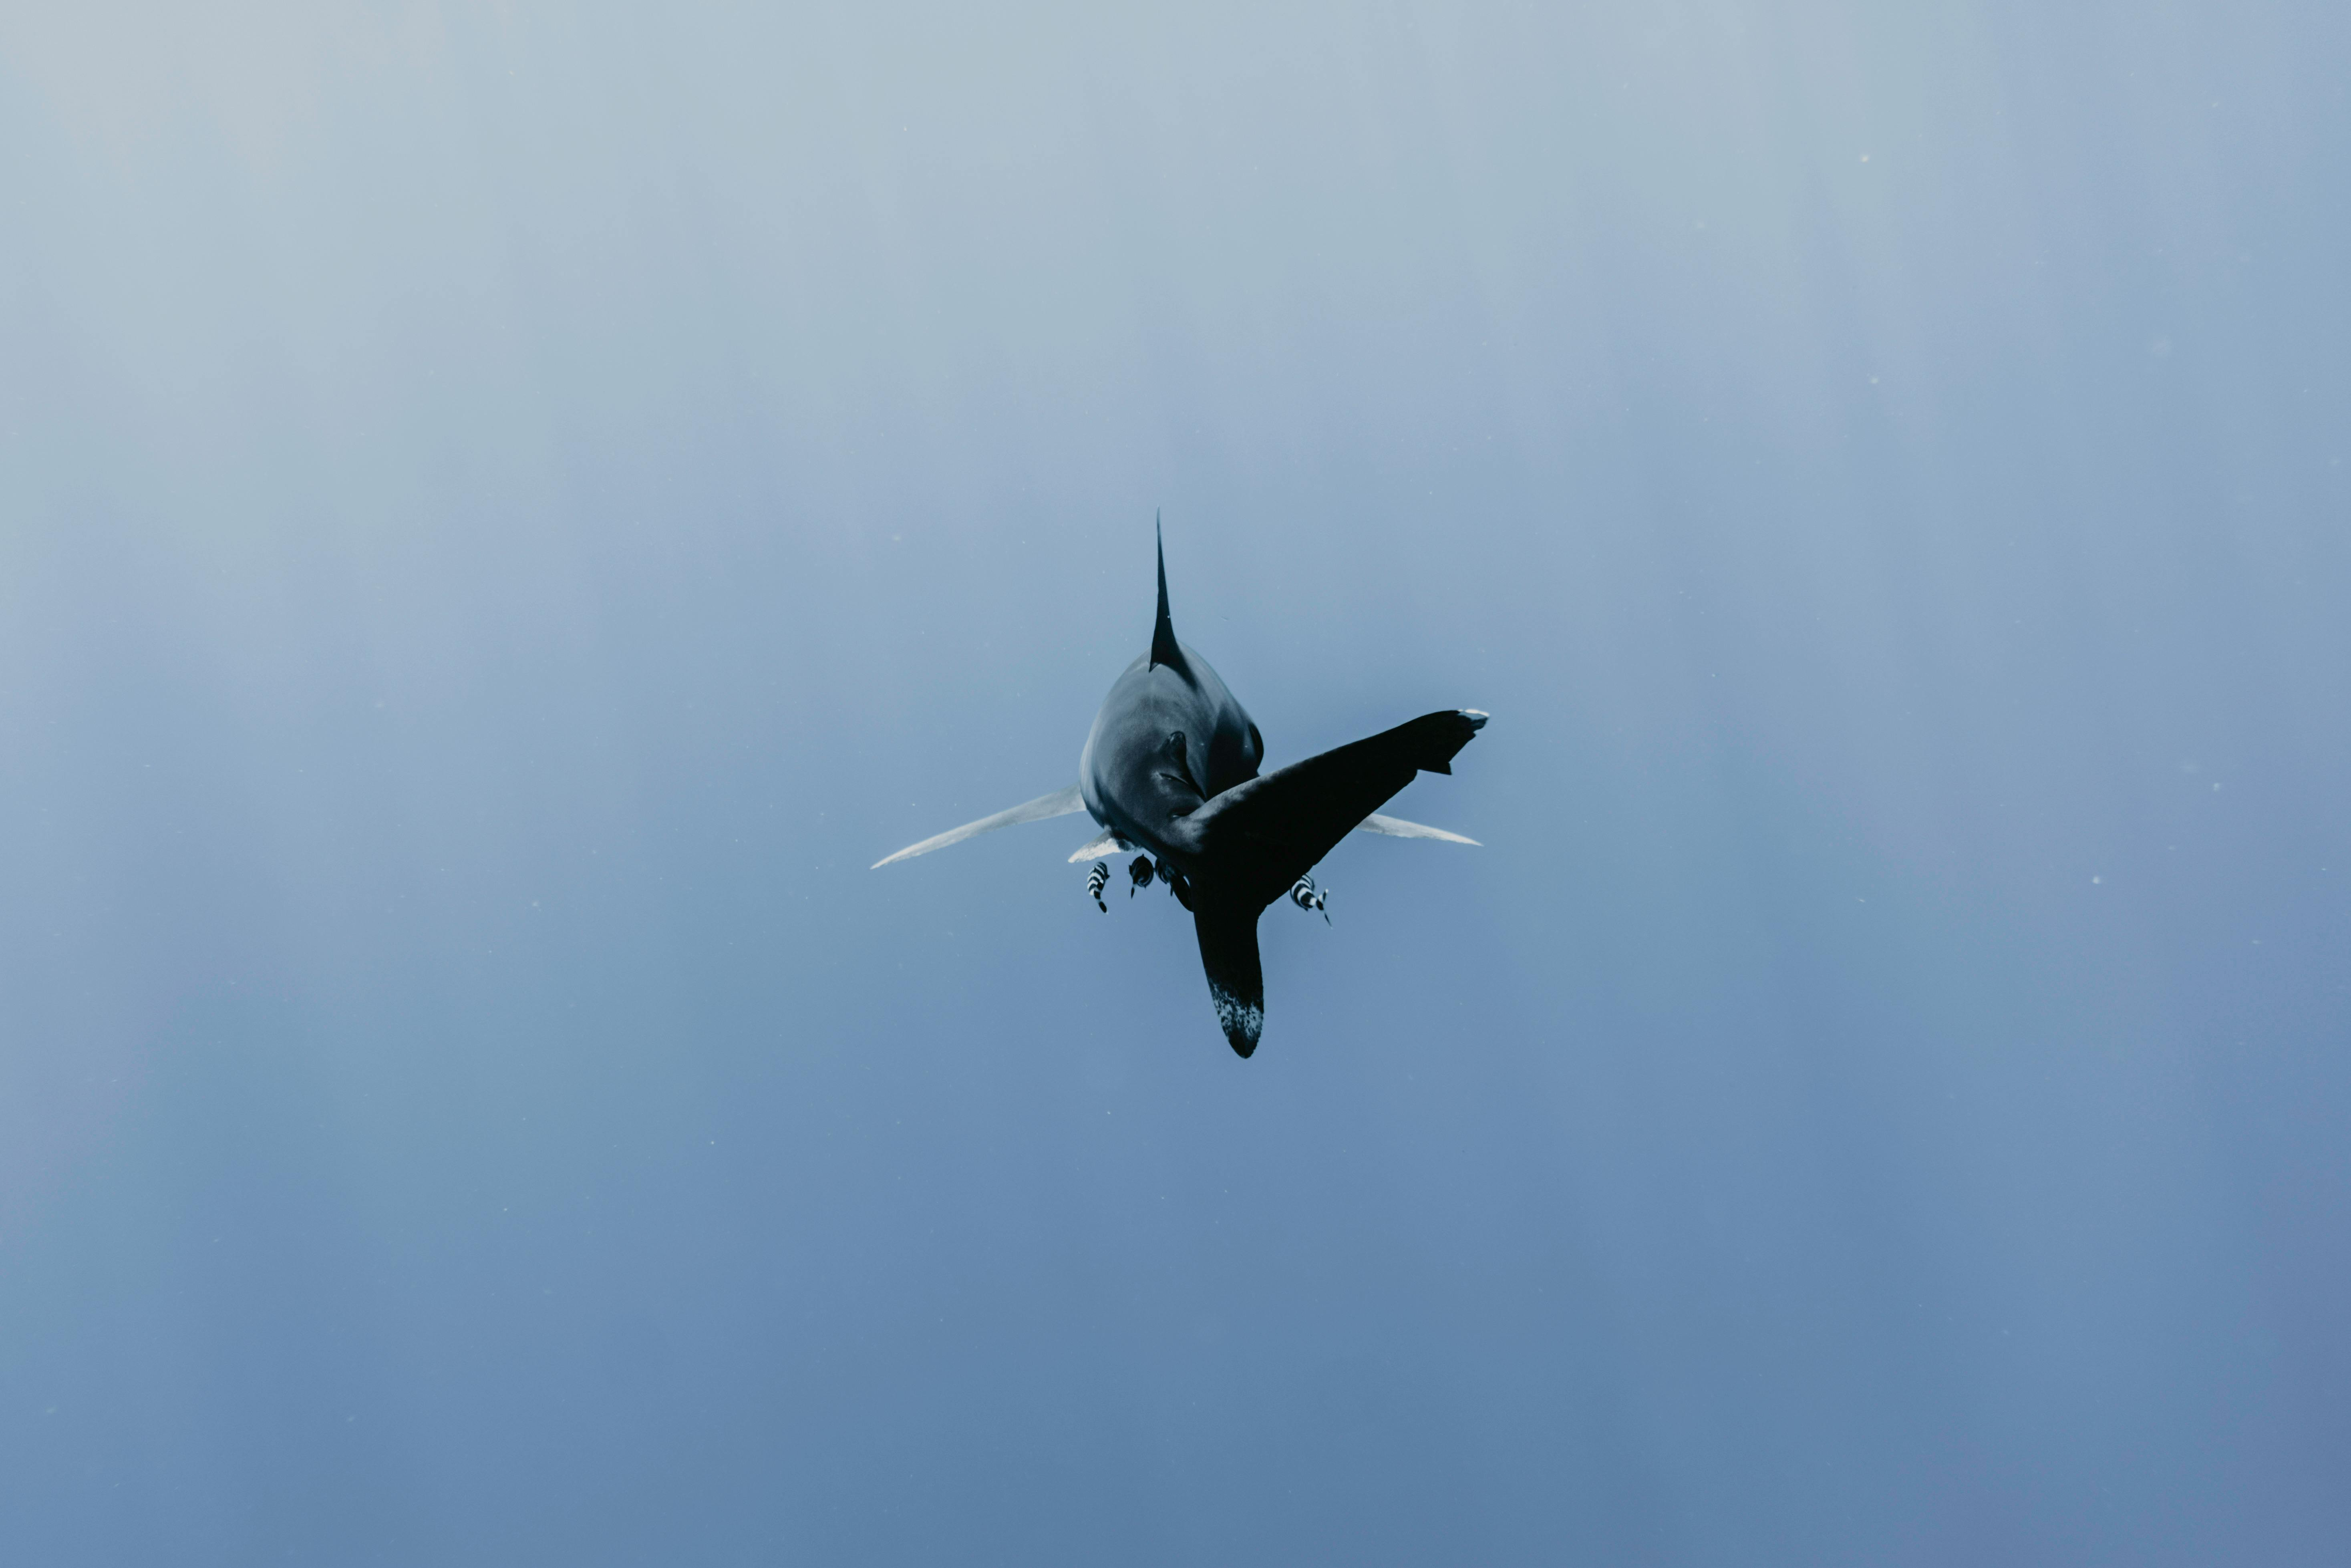fishLarge: (1287, 870, 1342, 931), (1083, 851, 1114, 921), (1123, 851, 1156, 901)
shark: (861, 509, 1494, 1062)
